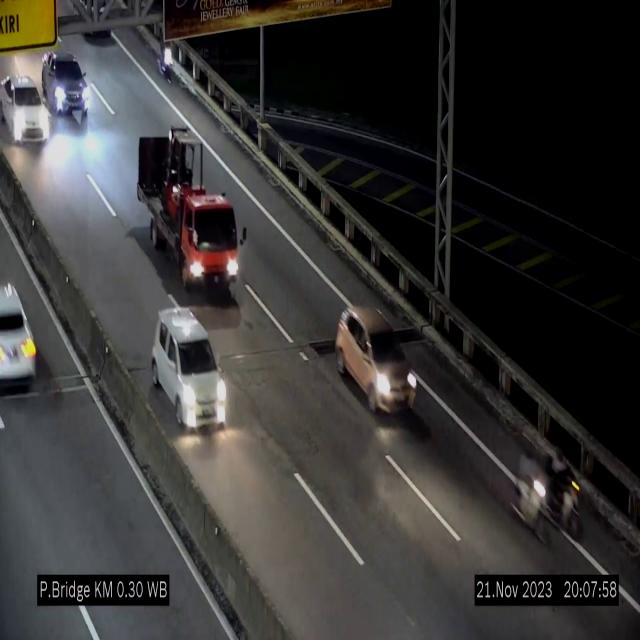Car: (340, 304, 420, 419), (152, 308, 226, 426), (0, 268, 46, 398), (42, 48, 94, 120), (1, 75, 49, 146)
Motorcycle: (516, 450, 554, 543), (551, 449, 583, 539), (162, 28, 177, 84)
Truck: (138, 130, 244, 304)
